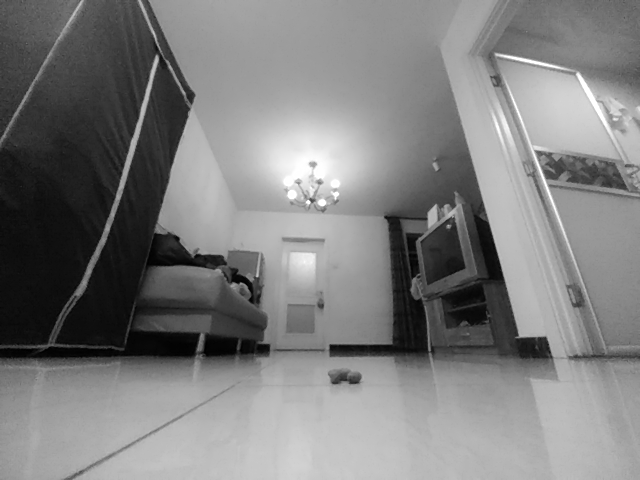curtain: (385, 214, 429, 354)
pet feces: (326, 366, 362, 384)
